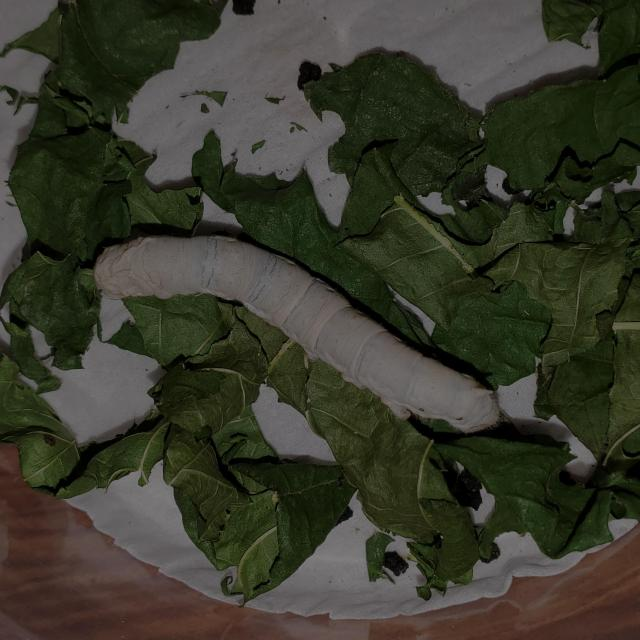Healthy: (66, 183, 516, 487)
